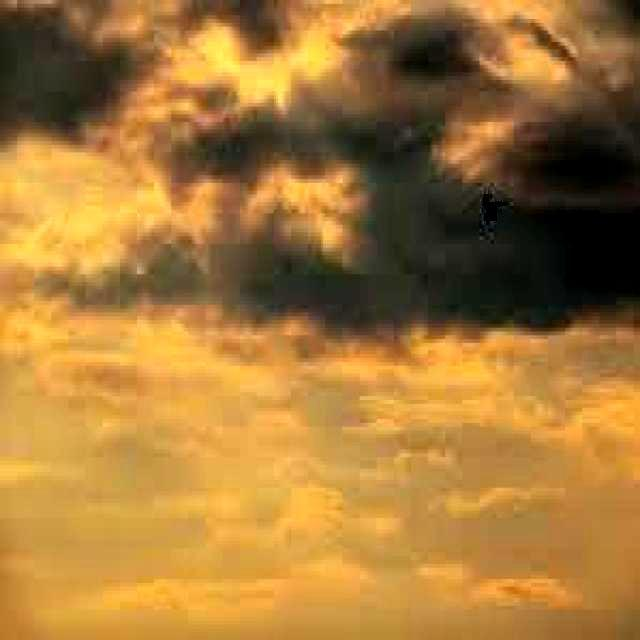bird: (477, 185, 507, 228)
